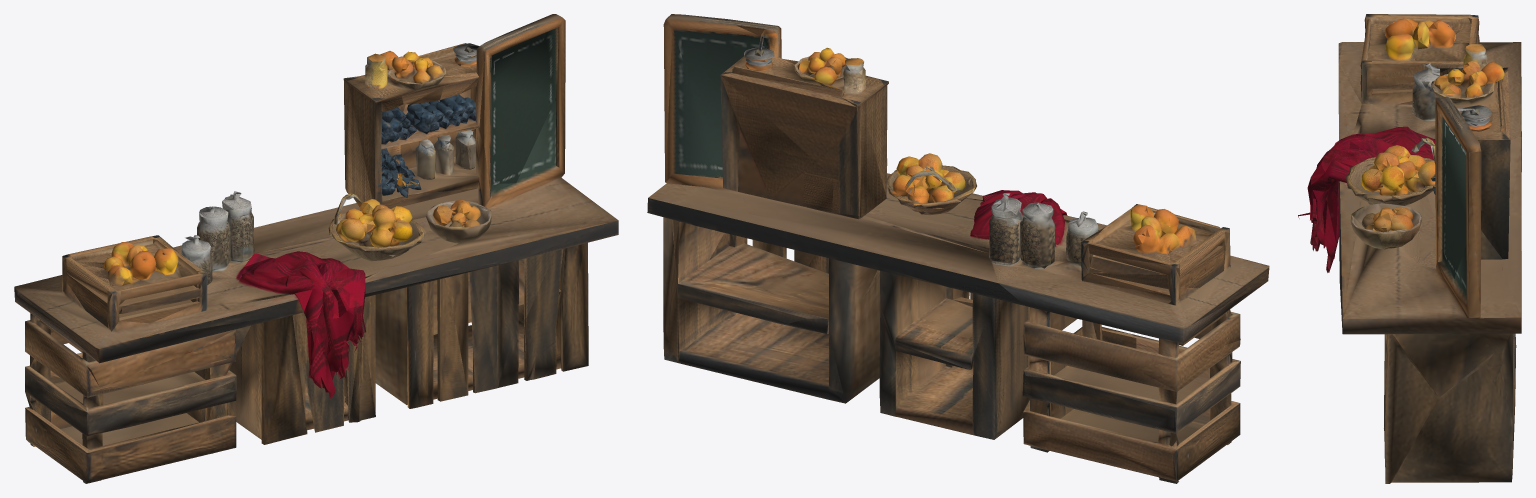
File: ShopCounter.fbx
The picture shows the model from 3 angles, left to right: view 1: azimuth 30°, elevation 25°; view 2: azimuth 150°, elevation 25°; view 3: azimuth 270°, elevation 25°; orthographic projection. The views are drawn at different scales.
Parts seen in each view (by area): view 1: Mesh_0; view 2: Mesh_0; view 3: Mesh_0.
Boxes of the visible parts, x1,y1,x2,y2 form: Mesh_0: [14, 14, 618, 483]; Mesh_0: [647, 14, 1269, 483]; Mesh_0: [1298, 14, 1521, 483].
Bounding box in the file's own units: 190 × 110 × 64.15.
1 material, 1 textured.
